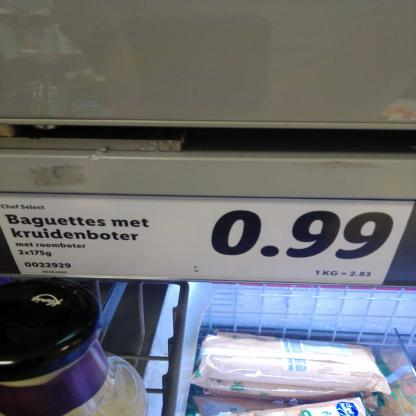prtg: (1, 193, 416, 287)
